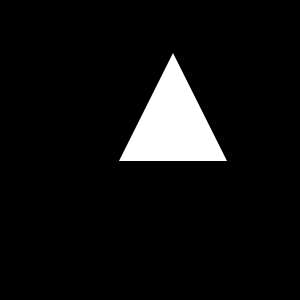triangle: (119, 53, 227, 161)
